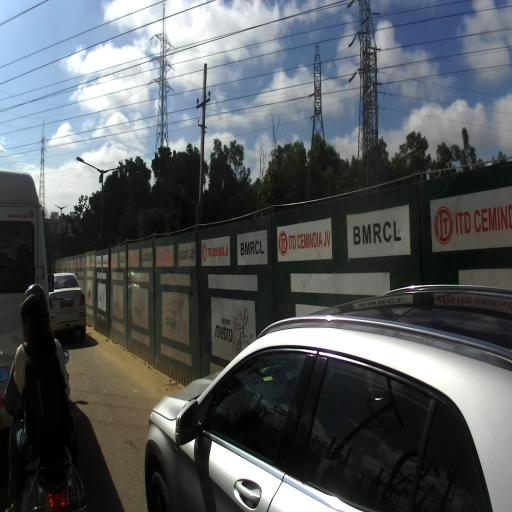street_light_0: (75, 156, 104, 183), (98, 165, 129, 183), (60, 205, 68, 214), (55, 205, 62, 213)
